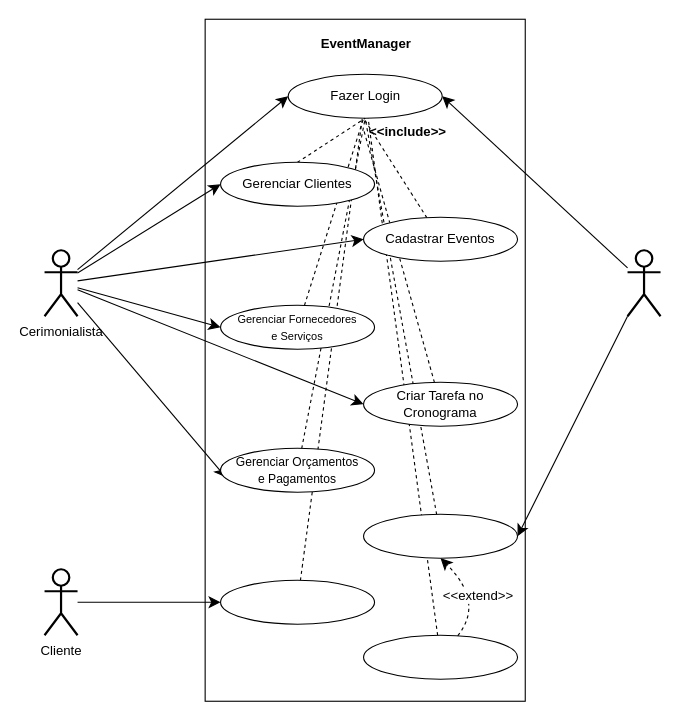
This 689x721 diagram has some shape labels left out. The shapes that lost their labels are listed below. From the top down, each one's box as (x1, y1, x2, y2) in pixels, then its label:
(626, 249, 661, 317): Ajudante
(362, 513, 518, 558): Atualizar Status da Tarefa
(219, 579, 375, 624): Acompanhar Progresso do Evento
(362, 634, 518, 679): Adicionar Observsação
